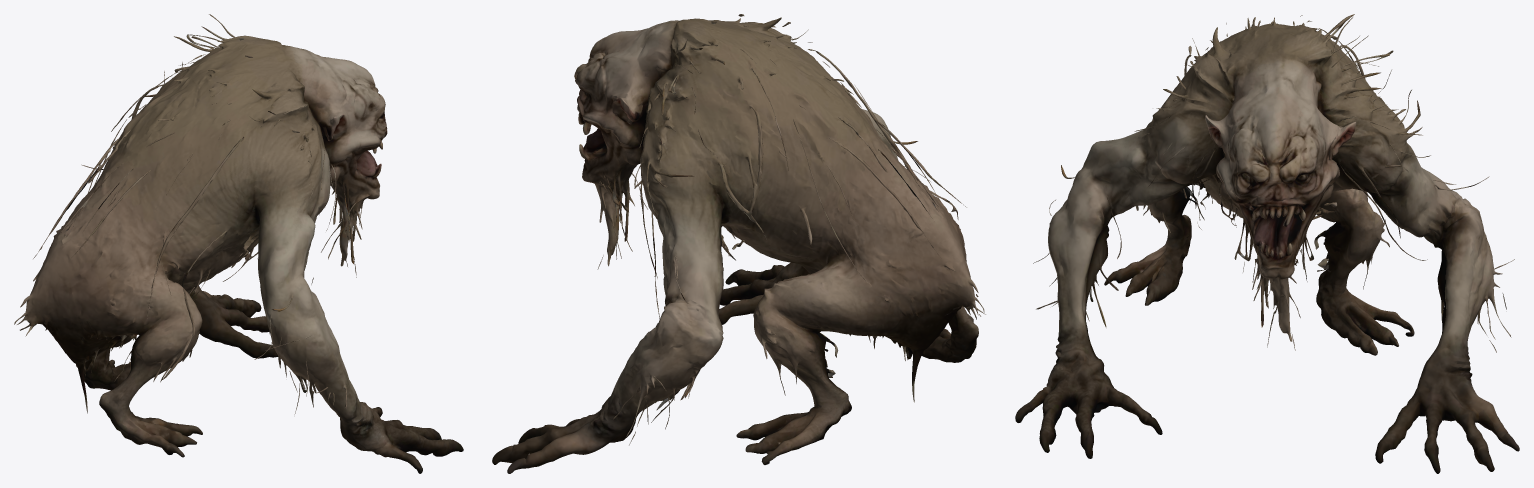
Rendered from golum.fbx.
3 renders of one model, left to right at view 1: azimuth 30°, elevation 25°; view 2: azimuth 150°, elevation 25°; view 3: azimuth 270°, elevation 25°, orthographic. The views are drawn at different scales.
Visible parts, largest first — view 1: tripo_node_17aa2cc4; view 2: tripo_node_17aa2cc4; view 3: tripo_node_17aa2cc4.
Part boxes in pixels (x1,y1,x2,y2): tripo_node_17aa2cc4: (14, 14, 463, 473); tripo_node_17aa2cc4: (492, 14, 985, 473); tripo_node_17aa2cc4: (1015, 14, 1519, 473).
Size of the model in its own units: 0.9033 by 0.8771 by 0.9997.
Materials: 1 (1 with a texture image).
